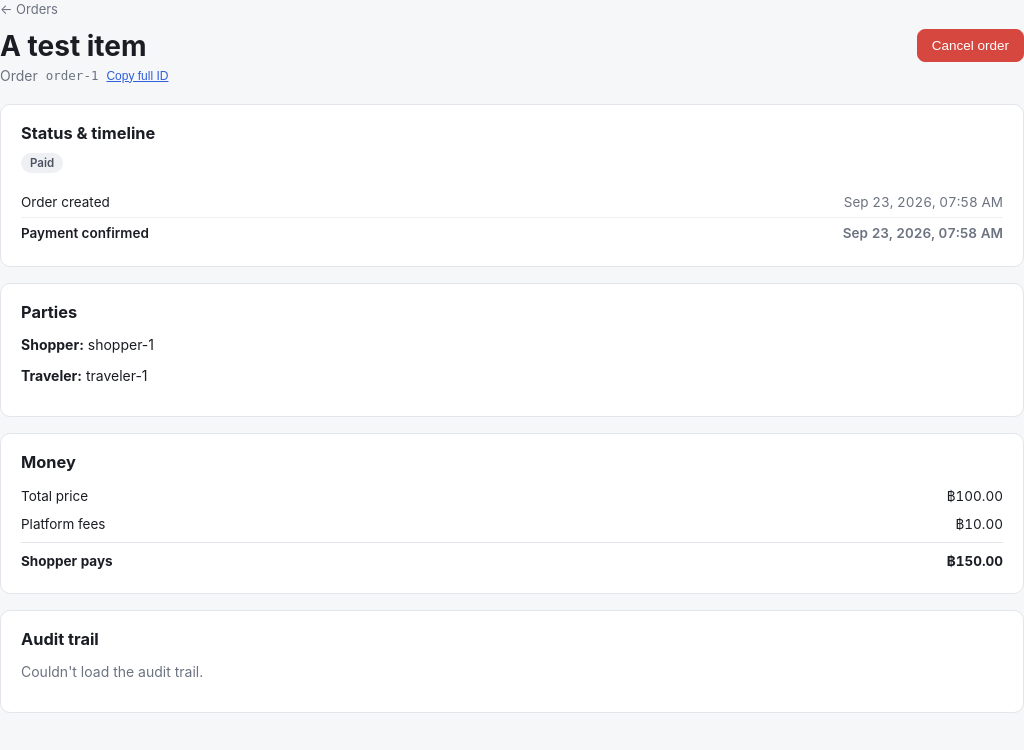
Scenario: OrderDetailPage action set › warns about the specific refund amount when cancelling an order with confirmed payment
Click the button "Cancel order". click: (970, 46)
box: [917,29,1023,62]
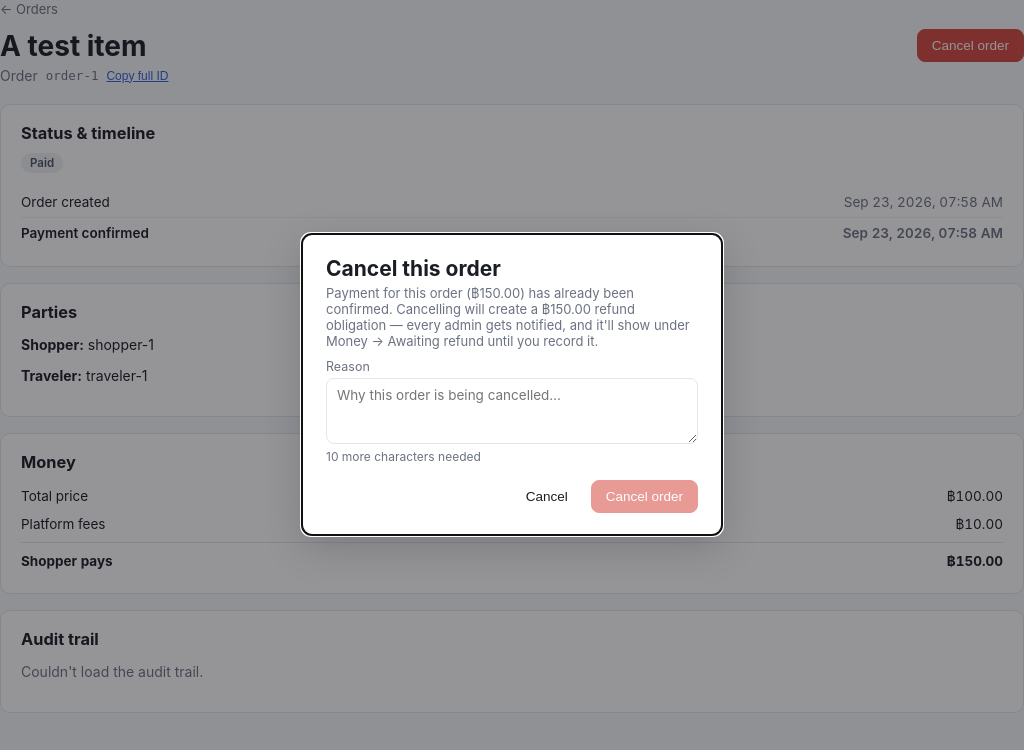
Expected: the text "already been confirmed" shows "฿150.00", [326,284,690,348]
